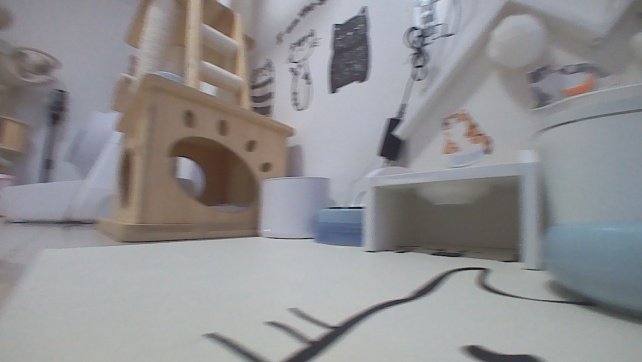wire: (394, 0, 434, 120), (349, 189, 369, 206)
